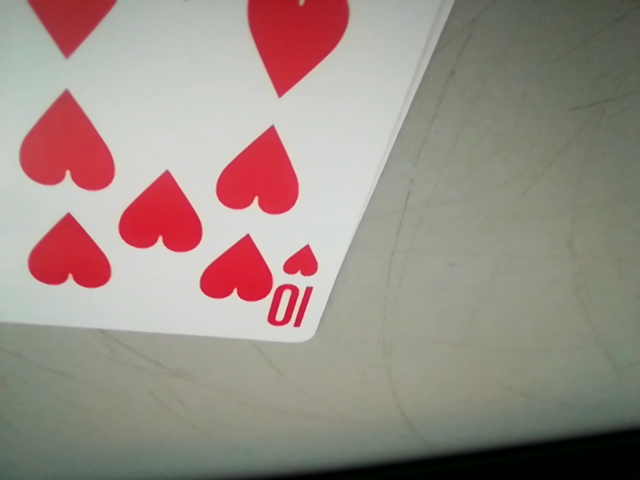hx 10: (264, 241, 335, 336)
